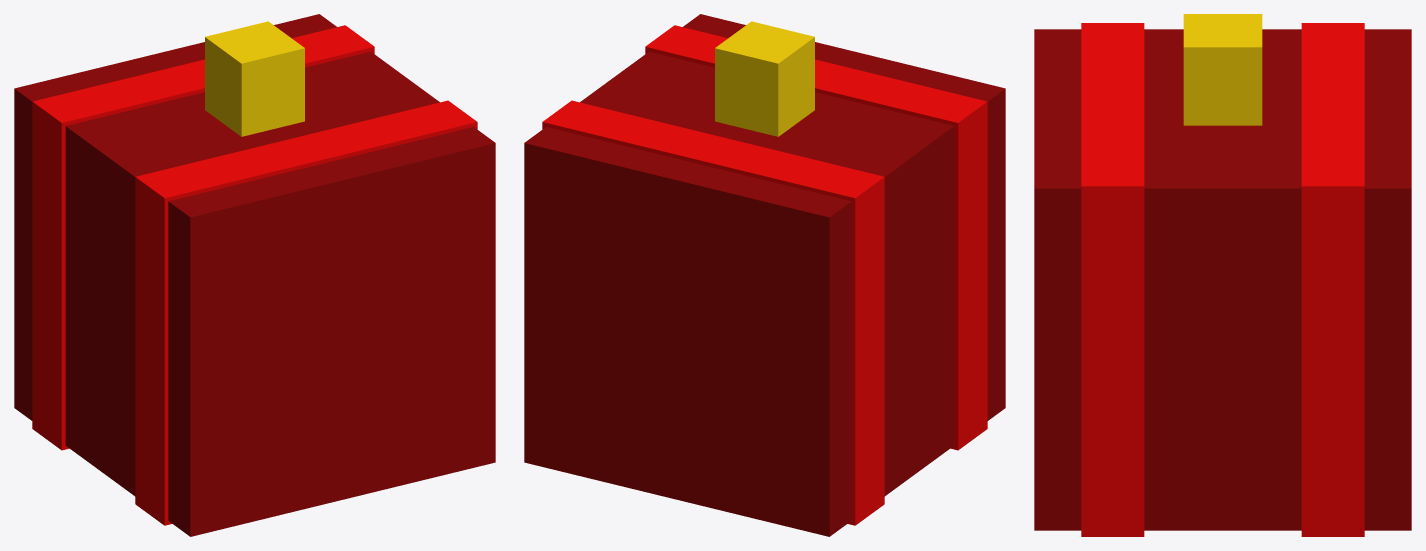
File: cache.glb
3 renders of one model, left to right at view 1: azimuth 30°, elevation 25°; view 2: azimuth 150°, elevation 25°; view 3: azimuth 270°, elevation 25°, orthographic. The views are drawn at different scales.
Parts seen in each view (by area): view 1: cache; view 2: cache; view 3: cache.
Boxes of the visible parts, x1,y1,x2,y2 form: cache: (14,14,495,536); cache: (524,14,1005,536); cache: (1034,14,1411,536).
Size of the model in its own units: 2.46 by 2.98 by 2.4.
